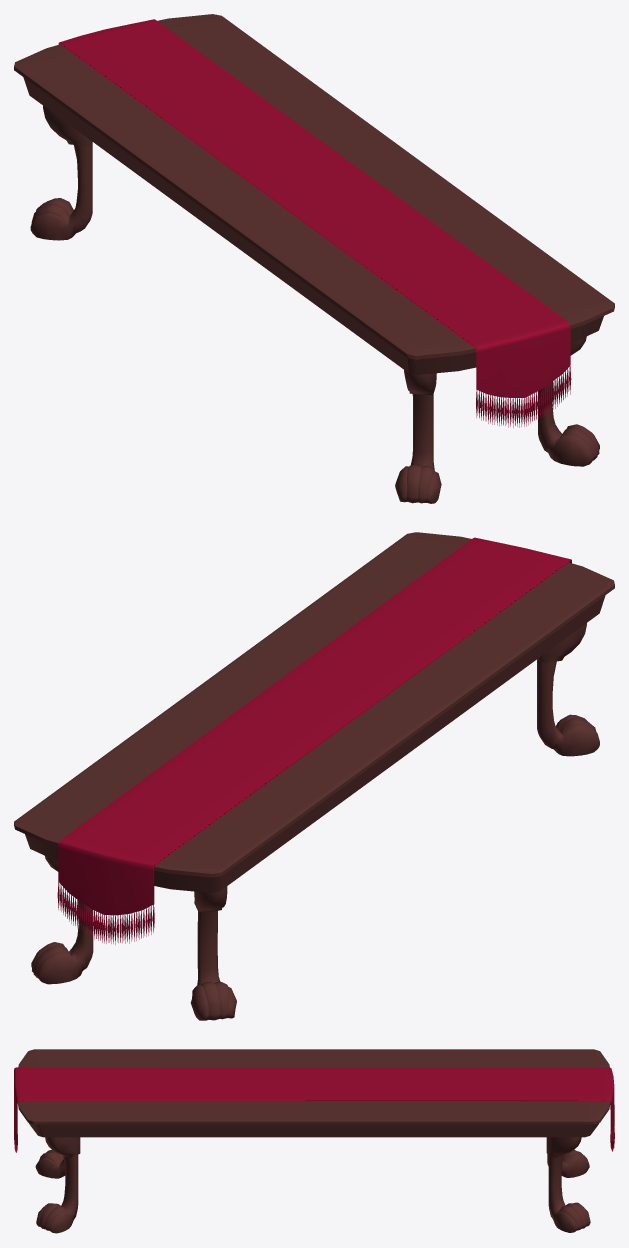
Rendered from table_freresGrimm.fbx.
3 views of the same model, one above another, from view 1: azimuth 30°, elevation 25°; view 2: azimuth 150°, elevation 25°; view 3: azimuth 270°, elevation 25° (orthographic). The views are drawn at different scales.
Parts seen in each view (by area): view 1: table_ff_G, chemin_de_table; view 2: table_ff_G, chemin_de_table; view 3: table_ff_G, chemin_de_table.
Boxes of the visible parts, left/top/right/bottom form: table_ff_G: left=14, top=14, right=614, bottom=503; chemin_de_table: left=58, top=19, right=571, bottom=427; table_ff_G: left=14, top=532, right=614, bottom=1020; chemin_de_table: left=57, top=537, right=571, bottom=944; table_ff_G: left=17, top=1049, right=610, bottom=1233; chemin_de_table: left=14, top=1067, right=614, bottom=1152.
Size of the model in its own units: 32.92 by 24.53 by 116.
